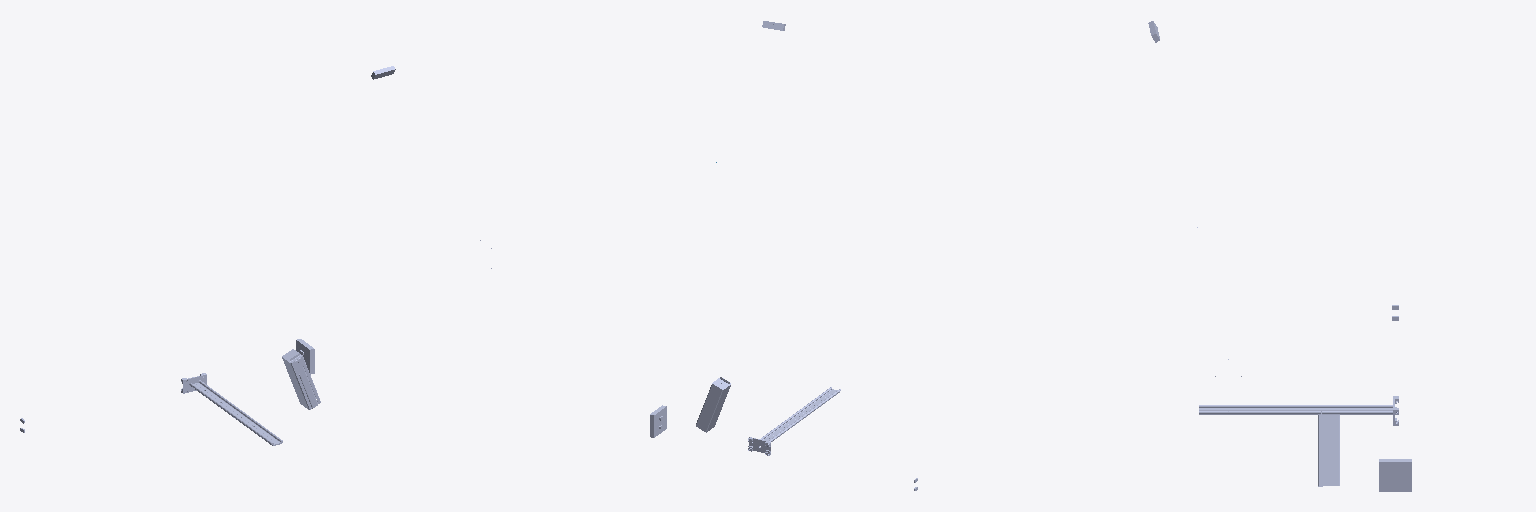
--- Facts derived from the render (not from the file) ---
Views: 3 orthographic renders of the robot side by side, from view 1: azimuth 30°, elevation 25°; view 2: azimuth 150°, elevation 25°; view 3: azimuth 270°, elevation 25°.
Model robo_description with 21 links and 20 joints (2 revolute, 2 prismatic, 16 fixed), rooted at base_link, posed joints at zero except 1 at the middle of their limits (joint5 = 0.4665).
Links seen in each view (by area): view 1: link2, link5; view 2: link2, link5; view 3: link2, link5, base_link.
Boxes of the visible links, x1,y1,x2,y2 form: link2: (181, 373, 282, 445); link5: (282, 349, 320, 409); link2: (748, 387, 840, 455); link5: (696, 377, 730, 432); link2: (1199, 396, 1398, 425); link5: (1318, 411, 1339, 486); base_link: (1379, 305, 1411, 491).
Bounding box of the posed robot: 1.65 × 0.8152 × 1.57 m (x, y, z).
4 mesh visuals loaded from 6 distinct referenced files (4 binary STL); not drawn: 2 (reference not matched to a file when rendering).

URDF robot description (robo_description):
<?xml version="1.0" encoding="utf-8"?>
<!-- 25AUG2023 Changed the minimum limit of lJoint5 to 0.247 and max to 0.686 -->
<!-- This URDF was automatically created by SolidWorks to URDF Exporter! Originally created by Stephen Brawner ([email redacted]) 
     Commit Version: 1.6.0-4-g7f85cfe  Build Version: 1.6.7995.38578
     For more information, please see http://wiki.ros.org/sw_urdf_exporter -->
<robot
  name="robo_description">
  <link
    name="base_link">
    <inertial>
      <origin
        xyz="-5.13826234849775E-17 -1.63904738952765E-17 0.339473684210526"
        rpy="0 0 0" />
      <mass
        value="19" />
      <inertia
        ixx="2.34956140350877"
        ixy="1.11311423041845E-17"
        ixz="3.69215798456927E-16"
        iyy="2.34956140350877"
        iyz="-7.44985984223617E-17"
        izz="0.151666666666667" />
    </inertial>
    <visual>
      <origin
        xyz="0 0 0"
        rpy="0 0 0" />
      <geometry>
        <mesh
          filename="package://robo_description/meshes/base_link.STL" />
      </geometry>
      <material
        name="">
        <color
          rgba="0.792156862745098 0.819607843137255 0.933333333333333 1" />
      </material>
    </visual>
    <collision>
      <origin
        xyz="0 0 0"
        rpy="0 0 0" />
      <geometry>
        <mesh
          filename="package://robo_description/meshes/base_link.STL" />
      </geometry>
    </collision>
  </link>
  <link
    name="link2">
    <inertial>
      <origin
        xyz="-0.001261 -0.2858 0.14572"
        rpy="0 0 0" />
      <mass
        value="3.13280329013611" />
      <inertia
        ixx="0.0169430024052603"
        ixy="-0.00280446630124331"
        ixz="0.0223183329111622"
        iyy="0.162057682822749"
        iyz="0.000505061238040558"
        izz="0.161640952999751" />
    </inertial>
    <visual>
      <origin
        xyz="0 0 -1"
        rpy="0 0 0" />
      <geometry>
        <mesh
          filename="package://robo_description/meshes/link2.STL" />
      </geometry>
      <material
        name="">
        <color
          rgba="0.792156862745098 0.819607843137255 0.933333333333333 1" />
      </material>
    </visual>
    <collision>
      <origin
        xyz="0 0 0"
        rpy="0 0 0" />
      <geometry>
        <mesh
          filename="package://robo_description/meshes/link2.STL" />
      </geometry>
    </collision>
  </link>
  <joint
    name="joint2"
    type="prismatic">
    <origin
      xyz="0.0 0 1"
      rpy="0 0 0" />
    <parent
      link="base_link" />
    <child
      link="link2" />
    <axis
      xyz="0 0 1" />
    <limit
      lower="0"
      upper="1"
      effort="0"
      velocity="0" />
  </joint>
  <link
    name="link4">
    <inertial>
      <origin
        xyz="-0.000438554587764983 0.0620490502692163 -0.172885898172371"
        rpy="0 0 0" />
      <mass
        value="0.162146723185788" />
      <inertia
        ixx="0.00336616371871891"
        ixy="1.46811284877534E-06"
        ixz="-3.57096843523024E-06"
        iyy="0.00312866852492012"
        iyz="0.00048231220150353"
        izz="0.000338308018448651" />
    </inertial>
    <visual>
      <origin
        xyz="-0.4665 0 -0.790"
        rpy="0 0 0" />
      <geometry>
        <mesh
          filename="package://robo_description/meshes/link4.STL" />
      </geometry>
      <material
        name="">
        <color
          rgba="0.792156862745098 0.819607843137255 0.933333333333333 1" />
      </material>
    </visual>
    <collision>
      <origin
        xyz="0 0 0"
        rpy="0 0 0" />
      <geometry>
        <mesh
          filename="package://robo_description/meshes/link4.STL" />
      </geometry>
    </collision>
  </link>
  <joint
    name="joint4"
    type="revolute">
    <origin
      xyz="0.46904 0 -0.21"
      rpy="0 0 0" />
    <parent
      link="link2" />
    <child
      link="link4" />
    <axis
      xyz="0 0 1" />
    <limit
      lower="-2.9671"
      upper="2.9671"
      effort="0"
      velocity="0" />
  </joint>
  <link
    name="link3">
    <inertial>
      <origin
        xyz="-0.0832189655707039 -0.0894795892974461 -0.00179630042130147"
        rpy="0 0 0" />
      <mass
        value="1.71811977068641" />
      <inertia
        ixx="0.00948440583507882"
        ixy="-0.00159429497921182"
        ixz="0.00308193362516688"
        iyy="0.035537875179704"
        iyz="0.000648421421055908"
        izz="0.0305779645247813" />
    </inertial>
    <visual>
      <origin
        xyz="-0.468545 -0.078 -0.43528"
        rpy="0 0 0" />
      <geometry>
        <mesh
          filename="package://robo_description/meshes/link3.STL" />
      </geometry>
      <material
        name="">
        <color
          rgba="0.792156862745098 0.819607843137255 0.933333333333333 1" />
      </material>
    </visual>
    <collision>
      <origin
        xyz="0 0 0"
        rpy="0 0 0" />
      <geometry>
        <mesh
          filename="package://robo_description/meshes/link3.STL" />
      </geometry>
    </collision>
  </link>
  <joint
    name="joint3"
    type="revolute">
    <origin
      xyz="0.0 0.077824 -0.35472"
      rpy="0 0 0" />
    <parent
      link="link4" />
    <child
      link="link3" />
    <axis
      xyz="0 1 0" />
    <limit
      lower="-1.5708"
      upper="1.5708"
      effort="0"
      velocity="0" />
  </joint>
  <link
    name="yanthra_link">
    <inertial>
      <origin
        xyz="-0.0832189655707036 -0.0114795892974462 -0.00179630042130124"
        rpy="0 0 0" />
      <mass
        value="1.71811977068641" />
      <inertia
        ixx="0.00948440583507882"
        ixy="-0.00159429497921182"
        ixz="0.0030819336251669"
        iyy="0.035537875179704"
        iyz="0.000648421421055907"
        izz="0.0305779645247813" />
    </inertial>
    <visual>
      <origin
        xyz="0 0 0"
        rpy="0 0 0" />
      <geometry>
        <box size="0.001 0.001 0.001"/>
      </geometry>
      <material
        name="">
        <color
          rgba="0.792156862745098 0.819607843137255 0.933333333333333 1" />
      </material>
    </visual>
    <collision>
      <origin
        xyz="0 0 0"
        rpy="0 0 0" />
      <geometry>
        <box size="0.001 0.001 0.001"/>
      </geometry>
    </collision>
  </link>
  <joint
    name="yanthra_joint"
    type="fixed">
    <origin
      xyz="0 -0.078 0"
      rpy="0 0 0" />
    <parent
      link="link3" />
    <child
      link="yanthra_link" />
    <axis
      xyz="0 0 0" />
  </joint>
  <link
    name="link5_origin">
    <inertial>
      <origin
        xyz="-0.00874999999999998 0.0375 -0.00507843424240889"
        rpy="0 0 0" />
      <mass
        value="0.0438088883035136" />
      <inertia
        ixx="3.24913884800222E-05"
        ixy="1.33063310958086E-21"
        ixz="-8.470329472543E-22"
        iyy="3.99574478810853E-06"
        iyz="-3.38875204913906E-21"
        izz="3.07317223657389E-05" />
    </inertial>
    <visual>
      <origin
        xyz="0 0 0"
        rpy="0 0 0" />
      <geometry>
        <box size="0.001 0.001 0.001"/>
      </geometry>
      <material
        name="">
        <color
          rgba="0.792156862745098 0.819607843137255 0.933333333333333 1" />
      </material>
    </visual>
    <collision>
      <origin
        xyz="0 0 0"
        rpy="0 0 0" />
      <geometry>
        <box size="0.001 0.001 0.001"/>
      </geometry>
    </collision>
  </link>
  <joint
    name="link5_origin_joint"
    type="fixed">
    <origin
      xyz="0 0 0.0"
      rpy="0 0 0" />
    <parent	
      link="yanthra_link" />
    <child
      link="link5_origin" />
    <axis
      xyz="0 0 0" />
  </joint>
  <link
    name="link5">
    <inertial>
      <origin
        xyz="0.108132413871145 2.08242781028485E-06 0.00569147154470495"
        rpy="0 0 0" />
      <mass
        value="0.277404400359573" />
      <inertia
        ixx="0.00021628976171093"
        ixy="1.27900715148446E-06"
        ixz="-0.000135093187106687"
        iyy="0.00359200319167061"
        iyz="-8.36237914028336E-08"
        izz="0.00358633509004247" />
    </inertial>
    <visual>
      <origin
        xyz="-0.715545 0 -0.43528"
        rpy="0 0 0" />
      <geometry>
        <mesh
          filename="package://robo_description/meshes/link5.STL" />
      </geometry>
      <material
        name="">
        <color
          rgba="0.792156862745098 0.819607843137255 0.933333333333333 1" />
      </material>
    </visual>
    <collision>
      <origin
        xyz="0 0 0"
        rpy="0 0 0" />
      <geometry>
        <mesh
          filename="package://robo_description/meshes/link5.STL" />
      </geometry>
    </collision>
  </link>
  <joint
    name="joint5"
    type="prismatic">
    <origin
      xyz="0.0 0 0"
      rpy="0 0 0" />
    <parent
      link="link5_origin" />
    <child
      link="link5" />
    <axis
      xyz="1 0 0" />
    <limit
      lower="0.247"
      upper="0.686"
      effort="0"
      velocity="0" />
  </joint>
  <link
    name="ee_link">
    <inertial>
      <origin
        xyz="-0.00874999999999998 0.0375 -0.00507843424240889"
        rpy="0 0 0" />
      <mass
        value="0.0438088883035136" />
      <inertia
        ixx="3.24913884800222E-05"
        ixy="1.33063310958086E-21"
        ixz="-8.470329472543E-22"
        iyy="3.99574478810853E-06"
        iyz="-3.38875204913906E-21"
        izz="3.07317223657389E-05" />
    </inertial>
    <visual>
      <origin
        xyz="0 0 0"
        rpy="0 0 0" />
      <geometry>
        <box size="0.001 0.001 0.001"/>
      </geometry>
      <material
        name="">
        <color
          rgba="0.792156862745098 0.819607843137255 0.933333333333333 1" />
      </material>
    </visual>
    <collision>
      <origin
        xyz="0 0 0"
        rpy="0 0 0" />
      <geometry>
        <box size="0.001 0.001 0.001"/>
      </geometry>
    </collision>
  </link>
  <joint
    name="ee_joint"
    type="fixed">
    <origin
      xyz="-0.085 0 0"
      rpy="0 0 0" />
    <parent	
      link="link5" />
    <child
      link="ee_link" />
    <axis
      xyz="0 0 0" />
  </joint>
  <link
    name="aruco_marker_link">
    <inertial>
      <origin
        xyz="-0.00874999999999998 0.0375 -0.00507843424240889"
        rpy="0 0 0" />
      <mass
        value="0.0438088883035136" />
      <inertia
        ixx="3.24913884800222E-05"
        ixy="1.33063310958086E-21"
        ixz="-8.470329472543E-22"
        iyy="3.99574478810853E-06"
        iyz="-3.38875204913906E-21"
        izz="3.07317223657389E-05" />
    </inertial>
    <visual>
      <origin
        xyz="0 0 0"
        rpy="0 0 0" />
      <geometry>
        <box size="0.001 0.001 0.001"/>
      </geometry>
      <material
        name="">
        <color
          rgba="0.792156862745098 0.819607843137255 0.933333333333333 1" />
      </material>
    </visual>
    <collision>
      <origin
        xyz="0 0 0"
        rpy="0 0 0" />
      <geometry>
        <box size="0.001 0.001 0.001"/>
      </geometry>
    </collision>
  </link>
  <joint
    name="aruco_joint"
    type="fixed">
    <origin
      xyz="0.0 0 0.08"
      rpy="0 0 0" />
    <parent	
      link="ee_link" />
    <child
      link="aruco_marker_link" />
    <axis
      xyz="0 0 0" />
  </joint>
  <link
    name="aruco_link_1">
    <inertial>
      <origin
        xyz="-0.00874999999999998 0.0375 -0.00507843424240889"
        rpy="0 0 0" />
      <mass
        value="0.0438088883035136" />
      <inertia
        ixx="3.24913884800222E-05"
        ixy="1.33063310958086E-21"
        ixz="-8.470329472543E-22"
        iyy="3.99574478810853E-06"
        iyz="-3.38875204913906E-21"
        izz="3.07317223657389E-05" />
    </inertial>
    <visual>
      <origin
        xyz="0 0 0"
        rpy="0 0 0" />
      <geometry>
        <box size="0.001 0.001 0.001"/>
      </geometry>
      <material
        name="">
        <color
          rgba="0.792156862745098 0.819607843137255 0.933333333333333 1" />
      </material>
    </visual>
    <collision>
      <origin
        xyz="0 0 0"
        rpy="0 0 0" />
      <geometry>
        <box size="0.001 0.001 0.001"/>
      </geometry>
    </collision>
  </link>
  <joint
    name="aruco_joint_1"
    type="fixed">
    <origin
      xyz="0.0 0.04 0.04"
      rpy="0 0 0" />
    <parent	
      link="aruco_marker_link" />
    <child
      link="aruco_link_1" />
    <axis
      xyz="0 0 0" />
  </joint>
  <link
    name="aruco_link_2">
    <inertial>
      <origin
        xyz="-0.00874999999999998 0.0375 -0.00507843424240889"
        rpy="0 0 0" />
      <mass
        value="0.0438088883035136" />
      <inertia
        ixx="3.24913884800222E-05"
        ixy="1.33063310958086E-21"
        ixz="-8.470329472543E-22"
        iyy="3.99574478810853E-06"
        iyz="-3.38875204913906E-21"
        izz="3.07317223657389E-05" />
    </inertial>
    <visual>
      <origin
        xyz="0 0 0"
        rpy="0 0 0" />
      <geometry>
        <box size="0.001 0.001 0.001"/>
      </geometry>
      <material
        name="">
        <color
          rgba="0.792156862745098 0.819607843137255 0.933333333333333 1" />
      </material>
    </visual>
    <collision>
      <origin
        xyz="0 0 0"
        rpy="0 0 0" />
      <geometry>
        <box size="0.001 0.001 0.001"/>
      </geometry>
    </collision>
  </link>
  <joint
    name="aruco_joint_2"
    type="fixed">
    <origin
      xyz="0.0 -0.04 0.04"
      rpy="0 0 0" />
    <parent	
      link="aruco_marker_link" />
    <child
      link="aruco_link_2" />
    <axis
      xyz="0 0 0" />
  </joint>
  <link
    name="aruco_link_3">
    <inertial>
      <origin
        xyz="-0.00874999999999998 0.0375 -0.00507843424240889"
        rpy="0 0 0" />
      <mass
        value="0.0438088883035136" />
      <inertia
        ixx="3.24913884800222E-05"
        ixy="1.33063310958086E-21"
        ixz="-8.470329472543E-22"
        iyy="3.99574478810853E-06"
        iyz="-3.38875204913906E-21"
        izz="3.07317223657389E-05" />
    </inertial>
    <visual>
      <origin
        xyz="0 0 0"
        rpy="0 0 0" />
      <geometry>
        <box size="0.001 0.001 0.001"/>
      </geometry>
      <material
        name="">
        <color
          rgba="0.792156862745098 0.819607843137255 0.933333333333333 1" />
      </material>
    </visual>
    <collision>
      <origin
        xyz="0 0 0"
        rpy="0 0 0" />
      <geometry>
        <box size="0.001 0.001 0.001"/>
      </geometry>
    </collision>
  </link>
  <joint
    name="aruco_joint_3"
    type="fixed">
    <origin
      xyz="0.0 0.04 -0.04"
      rpy="0 0 0" />
    <parent	
      link="aruco_marker_link" />
    <child
      link="aruco_link_3" />
    <axis
      xyz="0 0 0" />
  </joint>
  <link
    name="aruco_link_4">
    <inertial>
      <origin
        xyz="-0.00874999999999998 0.0375 -0.00507843424240889"
        rpy="0 0 0" />
      <mass
        value="0.0438088883035136" />
      <inertia
        ixx="3.24913884800222E-05"
        ixy="1.33063310958086E-21"
        ixz="-8.470329472543E-22"
        iyy="3.99574478810853E-06"
        iyz="-3.38875204913906E-21"
        izz="3.07317223657389E-05" />
    </inertial>
    <visual>
      <origin
        xyz="0 0 0"
        rpy="0 0 0" />
      <geometry>
        <box size="0.001 0.001 0.001"/>
      </geometry>
      <material
        name="">
        <color
          rgba="0.792156862745098 0.819607843137255 0.933333333333333 1" />
      </material>
    </visual>
    <collision>
      <origin
        xyz="0 0 0"
        rpy="0 0 0" />
      <geometry>
        <box size="0.001 0.001 0.001"/>
      </geometry>
    </collision>
  </link>
  <joint
    name="aruco_joint_4"
    type="fixed">
    <origin
      xyz="0.0 -0.04 -0.04"
      rpy="0 0 0" />
    <parent	
      link="aruco_marker_link" />
    <child
      link="aruco_link_4" />
    <axis
      xyz="0 0 0" />
  </joint>
  <link
    name="link7">
    <inertial>
      <origin
        xyz="-0.00129487747822488 -0.0114795892973884 0.11996423535158"
        rpy="0 0 0" />
      <mass
        value="1.71811977068641" />
      <inertia
        ixx="0.0113386071435481"
        ixy="-0.00171490439294498"
        ixz="-0.00672100859249017"
        iyy="0.0355378751797041"
        iyz="-0.0001460470577602"
        izz="0.0287237632163119" />
    </inertial>
    <visual>
      <origin
        xyz="0 0 0"
        rpy="0 0 0" />
      <geometry>
        <box size="0.001 0.001 0.001"/>
      </geometry>
      <material
        name="">
        <color
          rgba="0.792156862745098 0.819607843137255 0.933333333333333 1" />
      </material>
    </visual>
    <collision>
      <origin
        xyz="0 0 0"
        rpy="0 0 0" />
      <geometry>
        <box size="0.001 0.001 0.001"/>
      </geometry>
    </collision>
  </link>
  <joint
    name="joint7"
    type="fixed">
    <origin
      xyz="0.46679 -0.08449 0.88441"
      rpy="0 0.959931 -1.5708" />
    <parent
      link="base_link"/>
    <child
      link="link7"/>
    <axis
      xyz="0 0 0" />
  </joint>
  <link
    name="camera_mount_link">
    <inertial>
      <origin
        xyz="-0.00129487747822488 -0.0114795892973883 0.11996423535158"
        rpy="0 0 0" />
      <mass
        value="1.71811977068641" />
      <inertia
        ixx="0.0113386071435481"
        ixy="-0.00171490439294498"
        ixz="-0.00672100859249018"
        iyy="0.0355378751797041"
        iyz="-0.000146047057760202"
        izz="0.0287237632163119" />
    </inertial>
    <visual>
      <origin
        xyz="0 0 0"
        rpy="0 0 0" />
      <geometry>
        <box size="0.001 0.001 0.001"/>
      </geometry>
      <material
        name="">
        <color
          rgba="0.792156862745098 0.819607843137255 0.933333333333333 1" />
      </material>
    </visual>
    <collision>
      <origin
        xyz="0 0 0"
        rpy="0 0 0" />
      <geometry>
        <box size="0.001 0.001 0.001"/>
      </geometry>
    </collision>
  </link>
     <!--Realsense Camera depth is 20 mm from back to glass, But the depth start point(GROUND ZERO REFERENCE i.e depth is Zero) is 1.1 mm behind glass-->
     <!--Camera thickness-Zero Ref +Plate thick=20-1.1+2 = 20.09 mm -->
     <!-- xyz="0.0209 -0.0375 0"-->
  <joint
    name="camera_mount_joint"
    type="fixed">
    <origin
      xyz="0.02090 -0.0375 0"
      rpy="-1.5708 0 -1.5708" />
    <parent
      link="link7" />
    <child
      link="camera_mount_link" />
    <axis
      xyz="0 0 0" />
  </joint>
  <link
    name="virtual_cam_link">
    <inertial>
      <origin
        xyz="-0.00874999999999998 0.0375 -0.00507843424240889"
        rpy="0 0 0" />
      <mass
        value="0.0438088883035136" />
      <inertia
        ixx="3.24913884800222E-05"
        ixy="1.33063310958086E-21"
        ixz="-8.470329472543E-22"
        iyy="3.99574478810853E-06"
        iyz="-3.38875204913906E-21"
        izz="3.07317223657389E-05" />
    </inertial>
    <visual>
      <origin
        xyz="0 0 0"
        rpy="0 0 0" />
      <geometry>
        <box size="0.001 0.001 0.001"/>
      </geometry>
      <material
        name="">
        <color
          rgba="0.792156862745098 0.819607843137255 0.933333333333333 1" />
      </material>
    </visual>
    <collision>
      <origin
        xyz="0 0 0"
        rpy="0 0 0" />
      <geometry>
        <box size="0.001 0.001 0.001"/>
      </geometry>
    </collision>
  </link>
  <joint
    name="virtual_cam_link_joint"
    type="fixed">
    <origin
      xyz="0 0 0"
      rpy="0 0 0" />
    <parent	
      link="camera_mount_link" />
    <child
      link="virtual_cam_link" />
    <axis
      xyz="0 0 0" />
  </joint>

  <link
    name="camera_link">
    <inertial>
      <origin
        xyz="-0.00874999999999998 0.0375 -0.00507843424240889"
        rpy="0 0 0" />
      <mass
        value="0.0438088883035136" />
      <inertia
        ixx="3.24913884800222E-05"
        ixy="1.33063310958086E-21"
        ixz="-8.470329472543E-22"
        iyy="3.99574478810853E-06"
        iyz="-3.38875204913906E-21"
        izz="3.07317223657389E-05" />
    </inertial>
    <visual>
      <origin
        xyz="-0.03768 -0.425 -0.175"
        rpy="0 -2.04 -1.5708" />
      <geometry>
        <mesh
          filename="package://robo_description/meshes/camera_link.STL" />
      </geometry>
      <material
        name="">
        <color
          rgba="0.792156862745098 0.819607843137255 0.933333333333333 1" />
      </material>
    </visual>
    <collision>
      <origin
        xyz="0 0 0"
        rpy="0 0 0" />
      <geometry>
        <mesh
          filename="package://robo_description/meshes/camera_link.STL" />
      </geometry>
    </collision>
  </link>
  <joint
    name="camera_link_joint"
    type="fixed">
    <origin
      xyz="-0.0275251 0.0103342 -0.0416669"
      rpy="0.147014 -0.0401316 -0.0974557" />
    <parent
      link="virtual_cam_link" />
    <child
      link="camera_link" />
    <axis
      xyz="0 0 0" />
  </joint>

  <link name="camera_depth_frame">

    <visual>

    <origin xyz="0 0 0" rpy="0 0 0" />

      <geometry>

        <box size="0.001 0.001 0.001"/>

      </geometry>

    </visual>

  </link>

  <joint name="camera_depth_frame_joint" type="fixed">

    <origin rpy="0 0 0" xyz="0 0 0"/>

    <parent link="camera_link"/>

    <child link="camera_depth_frame"/>

  </joint>

  <link name="camera_depth_optical_frame">

    <visual>

    <origin xyz="0 0 0" rpy="0 0 0" />

      <geometry>

        <box size="0.001 0.001 0.001"/>

      </geometry>

    </visual>

  </link>

  <joint name="camera_depth_optical_frame_joint" type="fixed">

   <origin rpy="0 0 0" xyz="0 0 0"/>

   <parent link="camera_depth_frame"/>

   <child link="camera_depth_optical_frame"/>

  </joint>

  <link name="camera_color_frame">

    <visual>

    <origin xyz="0 0 0" rpy="0 0 0" />

      <geometry>

        <box size="0.001 0.001 0.001"/>

      </geometry>

    </visual>

  </link>

  <joint name="camera_color_frame_joint" type="fixed">

    <origin rpy="0 0 0" xyz="0 0 0"/>

    <parent link="camera_link"/>

    <child link="camera_color_frame"/>

  </joint>

  <link name="camera_color_optical_frame">

    <visual>

    <origin xyz="0 0 0" rpy="0 0 0" />

      <geometry>

        <box size="0.001 0.001 0.001"/>

      </geometry>

    </visual>

  </link>

  <joint name="camera_color_optical_frame_joint" type="fixed">

   <origin rpy="0 0 0" xyz="0 0 0"/>

   <parent link="camera_color_frame"/>

   <child link="camera_color_optical_frame"/>

  </joint>
  <gazebo reference="stand">

    <material>Gazebo/Grey</material>

  </gazebo>

  <gazebo reference="link3">

    <material>Gazebo/Green</material>

  </gazebo>

  <gazebo reference="link4">

    <material>Gazebo/Red</material>

  </gazebo>

  <gazebo reference="link5">

    <material>Gazebo/Green</material>

  </gazebo>

  <gazebo reference="link9">

    <material>Gazebo/Red</material>

  </gazebo>

  <gazebo reference="link6">

    <material>Gazebo/White</material>

  </gazebo>

  <transmission name="tran1">

    <type>transmission_interface/SimpleTransmission</type>

    <joint name="joint3">

      <hardwareInterface>hardware_interface/PositionJointInterface</hardwareInterface>

    </joint>

    <actuator name="motor1">

      <hardwareInterface>hardware_interface/PositionJointInterface</hardwareInterface>

      <mechanicalReduction>1</mechanicalReduction>

    </actuator>

  </transmission>

  <transmission name="tran1">

    <type>transmission_interface/SimpleTransmission</type>

    <joint name="joint4">

      <hardwareInterface>hardware_interface/PositionJointInterface</hardwareInterface>

    </joint>

    <actuator name="motor1">

      <hardwareInterface>hardware_interface/PositionJointInterface</hardwareInterface>

      <mechanicalReduction>1</mechanicalReduction>

    </actuator>

  </transmission>

  <transmission name="tran1">

    <type>transmission_interface/SimpleTransmission</type>

    <joint name="joint5">

      <hardwareInterface>hardware_interface/PositionJointInterface</hardwareInterface>

    </joint>

    <actuator name="motor1">

      <hardwareInterface>hardware_interface/PositionJointInterface</hardwareInterface>

      <mechanicalReduction>1</mechanicalReduction>

    </actuator>

  </transmission>

  <gazebo>

    <plugin filename="libgazebo_ros_control.so" name="gazebo_ros_control">

      <robotNameSpace>/arm_controller</robotNameSpace>

    </plugin>

  </gazebo>

</robot>
